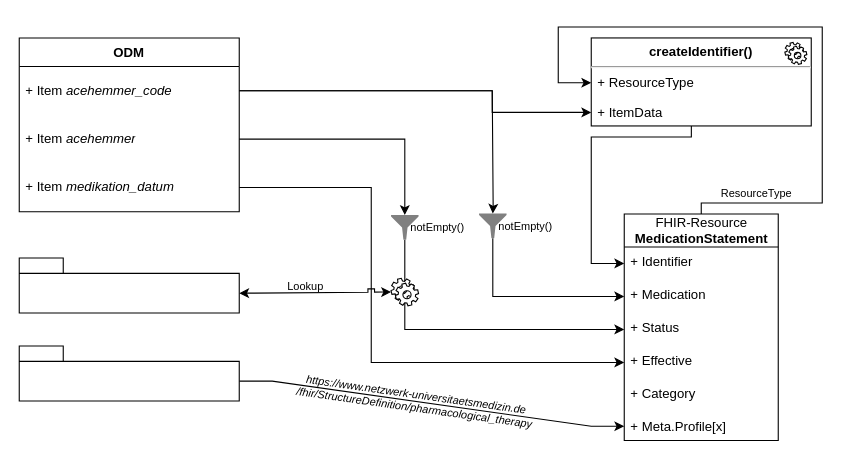
This 850x463 diagram has some shape labels left out. Here are the shapes that lost their labels. From the top down, the centre of each, then its label:
[128,285]: ValueSet MedicationStatementStatus
[128,373]: GECCO Profiles
